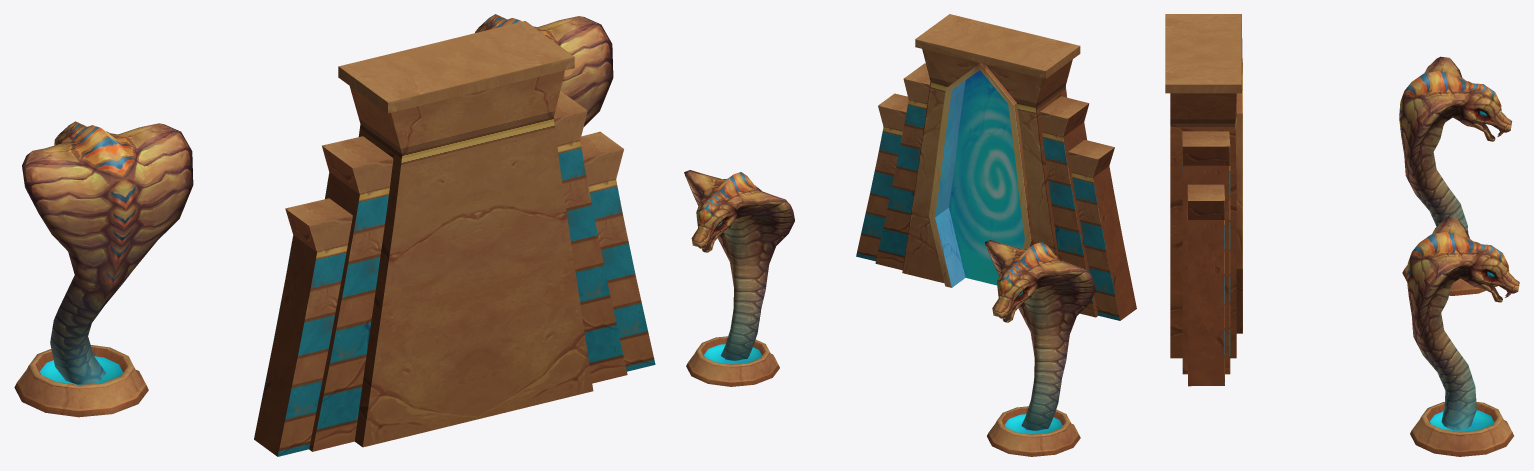
File: Area_05_7.FBX
The picture shows the model from 3 angles, left to right: view 1: azimuth 30°, elevation 25°; view 2: azimuth 150°, elevation 25°; view 3: azimuth 270°, elevation 25°; orthographic projection. The views are drawn at different scales.
Parts seen in each view (by area): view 1: Area_05_7; view 2: Area_05_7; view 3: Area_05_7.
Boxes of the visible parts, left/top/right/bottom form: Area_05_7: left=14, top=14, right=655, bottom=456; Area_05_7: left=684, top=14, right=1136, bottom=456; Area_05_7: left=1165, top=14, right=1519, bottom=456.
Bounding box in the file's own units: 2707 × 1740 × 1831.
